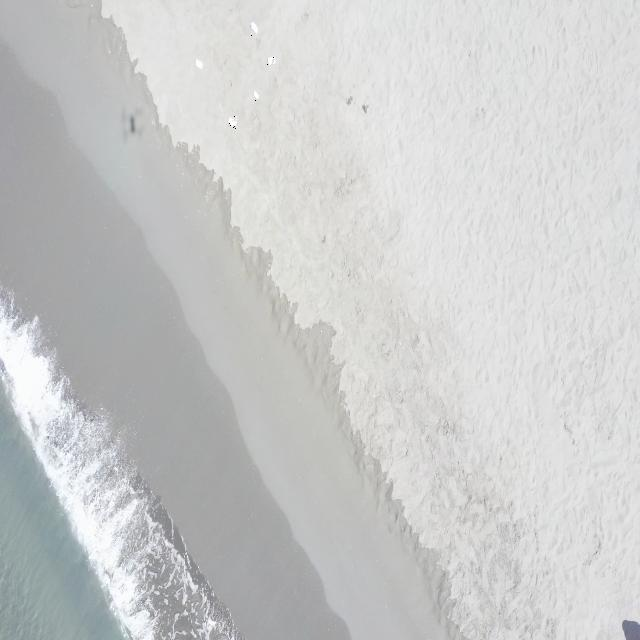retort-pouch: (228, 116, 238, 130), (249, 23, 259, 36), (196, 59, 206, 72), (268, 55, 278, 66), (254, 89, 262, 101)
